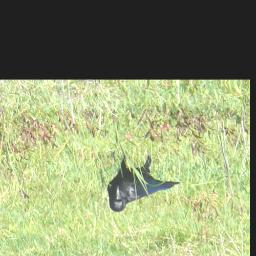Crow: (107, 150, 183, 213)
